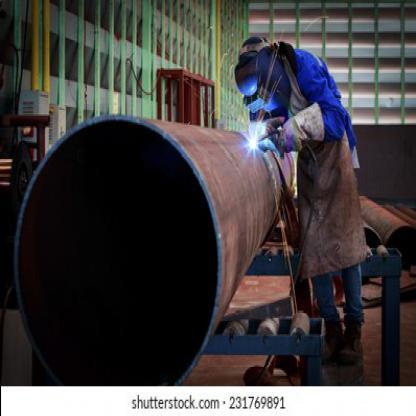Gloves: (282, 101, 325, 152), (250, 116, 284, 150)
